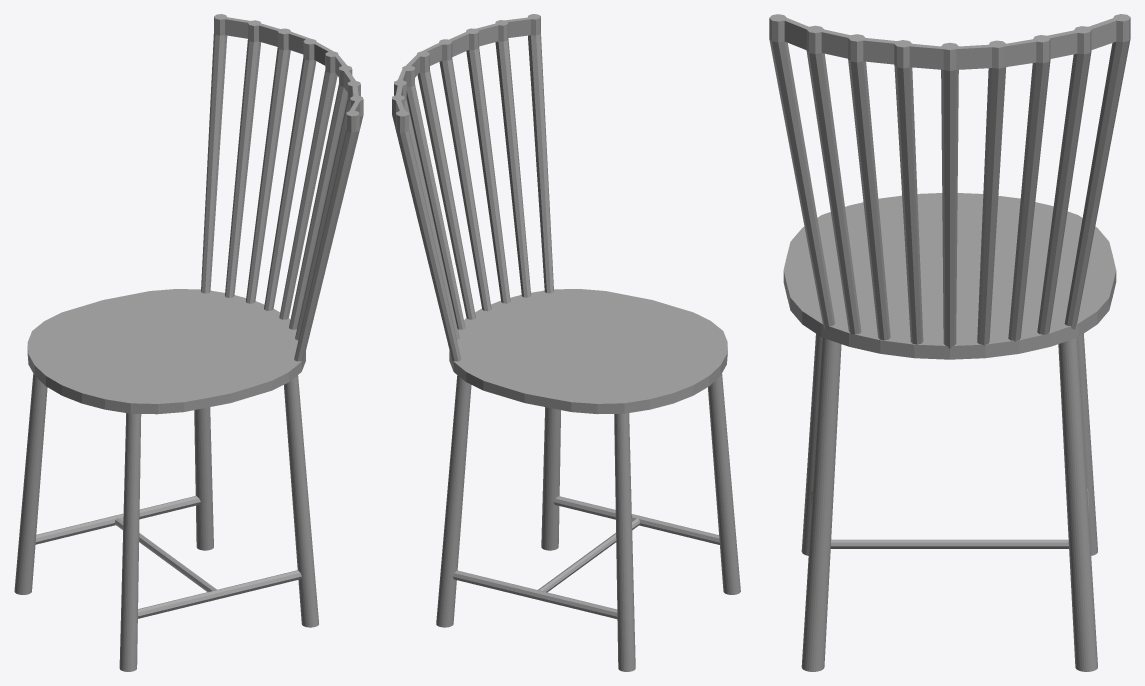
The model's file is chairmetal01.obj.
The picture shows the model from 3 angles, left to right: view 1: azimuth 30°, elevation 25°; view 2: azimuth 150°, elevation 25°; view 3: azimuth 270°, elevation 25°; orthographic projection. The views are drawn at different scales.
Parts seen in each view (by area): view 1: Cylinder.002_Cylinder.006; view 2: Cylinder.002_Cylinder.006; view 3: Cylinder.002_Cylinder.006.
Part boxes in pixels (x1,y1,x2,y2): Cylinder.002_Cylinder.006: [14, 14, 363, 671]; Cylinder.002_Cylinder.006: [392, 14, 740, 671]; Cylinder.002_Cylinder.006: [769, 14, 1130, 671].
Bounding box in the file's own units: 0.631 × 1.06 × 0.5197.
